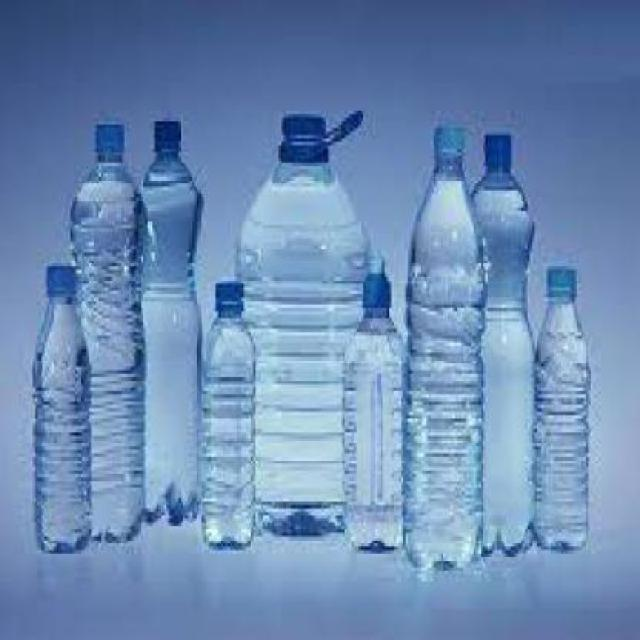PLASTIC: (234, 111, 368, 535), (401, 121, 481, 567), (65, 118, 141, 542), (467, 132, 535, 556), (136, 117, 201, 526), (341, 245, 405, 550), (31, 267, 89, 553), (530, 263, 584, 546), (199, 280, 252, 546), (274, 107, 360, 162), (362, 246, 389, 311), (478, 132, 509, 173), (429, 118, 465, 152), (90, 118, 124, 152), (152, 114, 180, 155), (42, 263, 73, 294), (214, 277, 241, 311), (544, 263, 571, 294)
